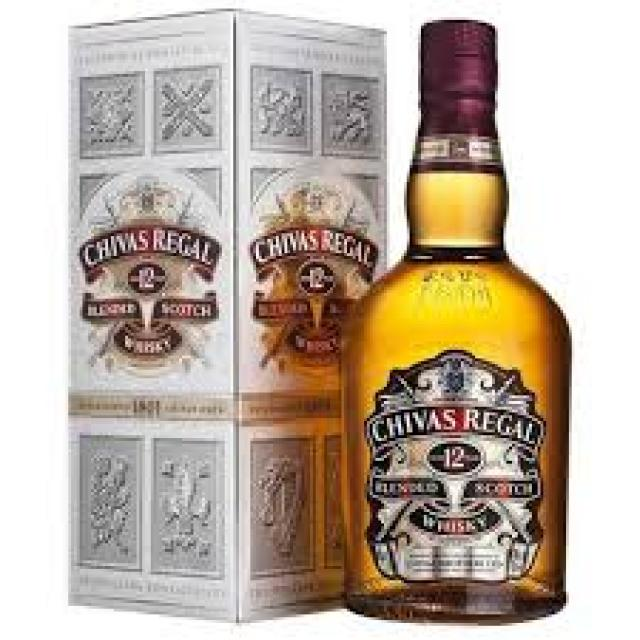Botella: (344, 0, 568, 629)
